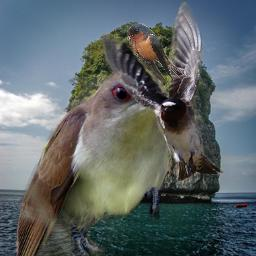Cuckoo: (16, 69, 178, 256)
Swallow: (102, 2, 224, 181), (127, 23, 187, 84)
